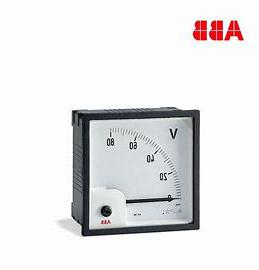pointer: (88, 116, 194, 230)
